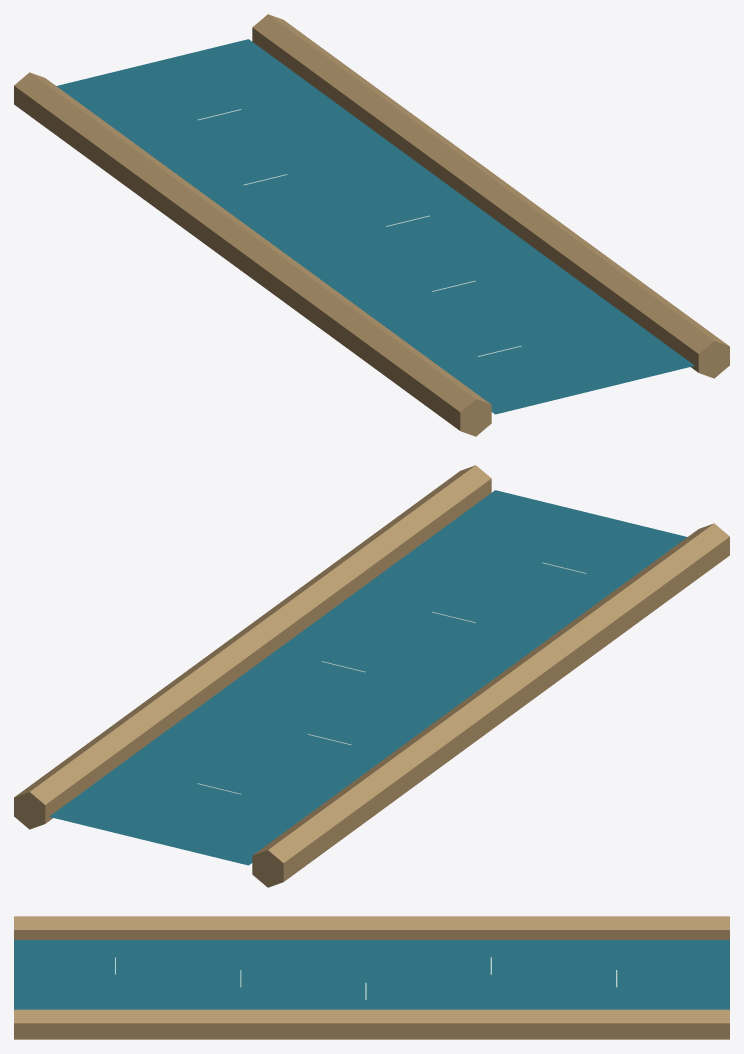
Rendered from terrain_river_straight.glb.
The picture shows the model from 3 angles, top to bottom: view 1: azimuth 30°, elevation 25°; view 2: azimuth 150°, elevation 25°; view 3: azimuth 270°, elevation 25°; orthographic projection. The views are drawn at different scales.
Visible parts, largest first — view 1: terrain_river_straight; view 2: terrain_river_straight; view 3: terrain_river_straight.
Part boxes in pixels (x1=…): terrain_river_straight: x1=14, y1=14, x2=729, y2=436; terrain_river_straight: x1=14, y1=465, x2=729, y2=887; terrain_river_straight: x1=14, y1=916, x2=729, y2=1039.
Bounding box in the file's own units: 4.18 × 0.56 × 12.
